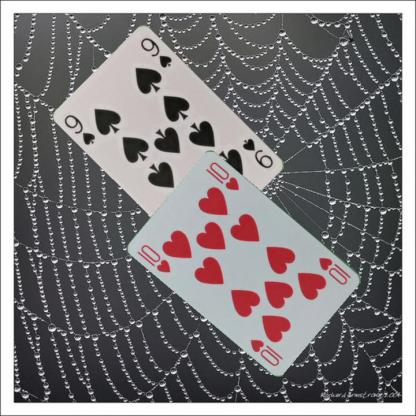10h: (316, 254, 353, 287), (138, 242, 172, 274)
9s: (240, 135, 275, 170), (62, 112, 97, 147)
